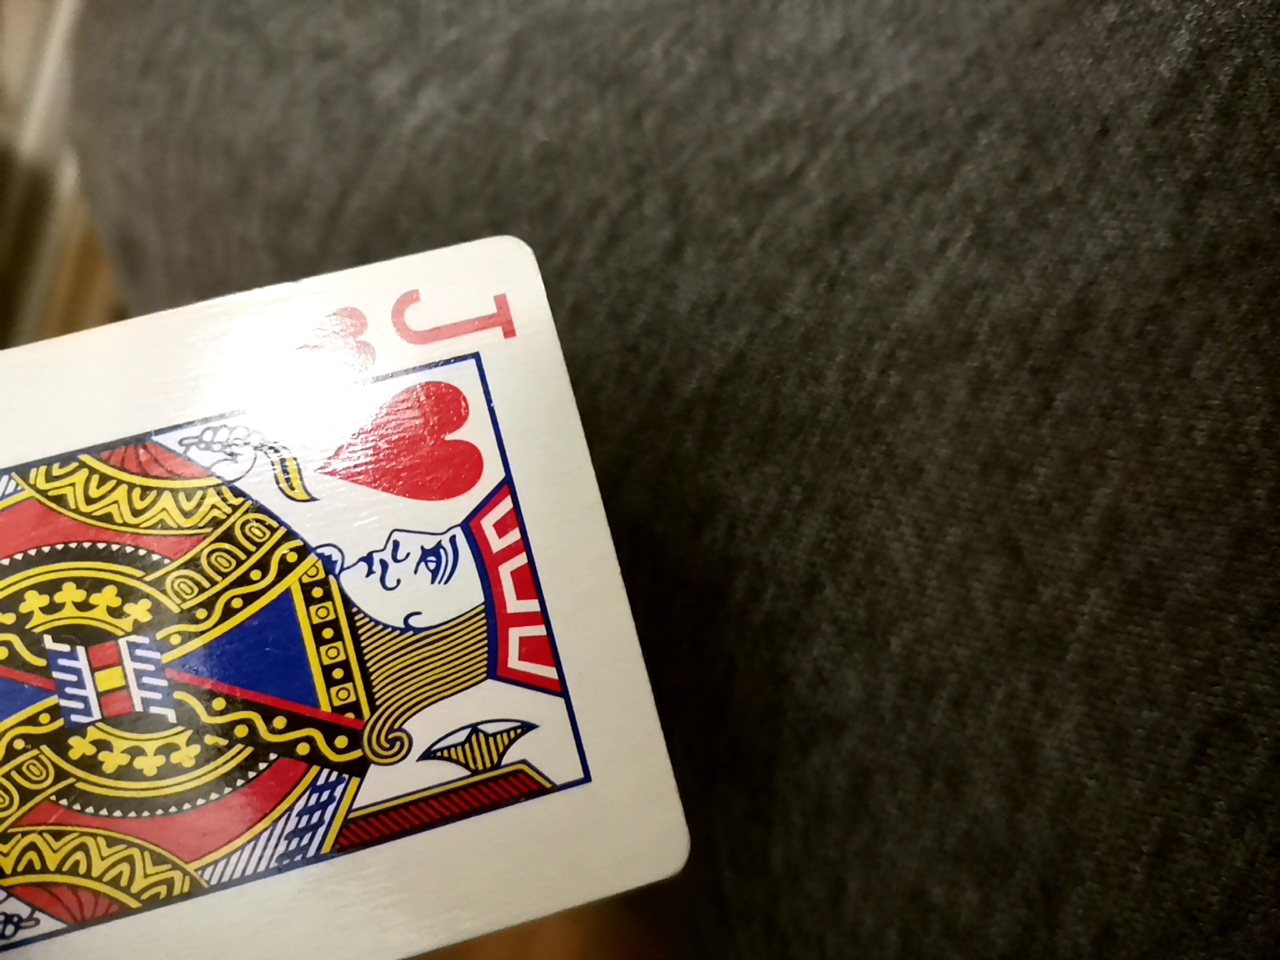hx j: (2, 232, 696, 954)
